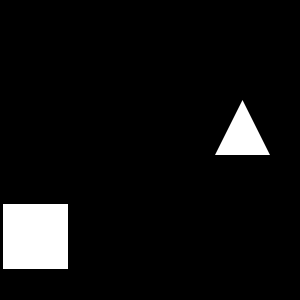circle: (3, 204, 68, 269)
triangle: (215, 100, 270, 155)
